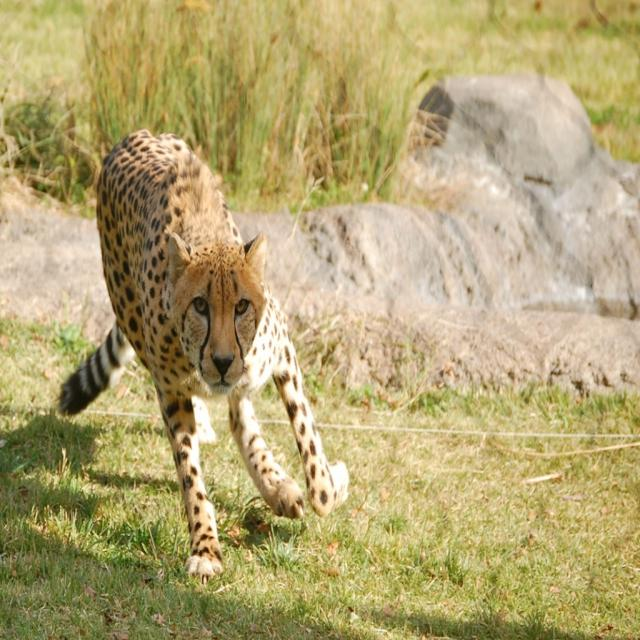Cheetah: (53, 128, 350, 580)
